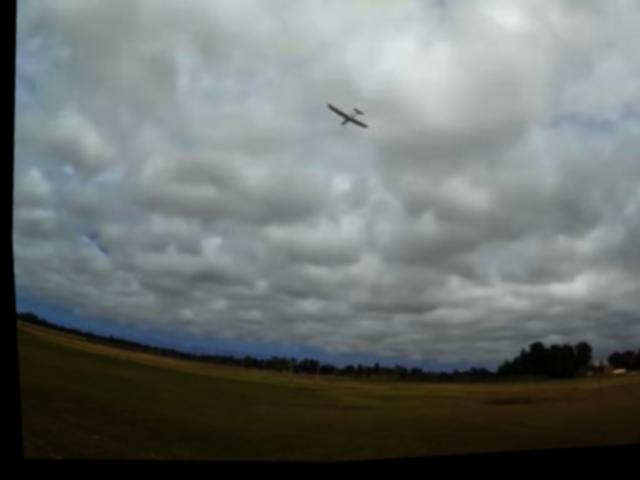uav: (318, 96, 372, 142)
